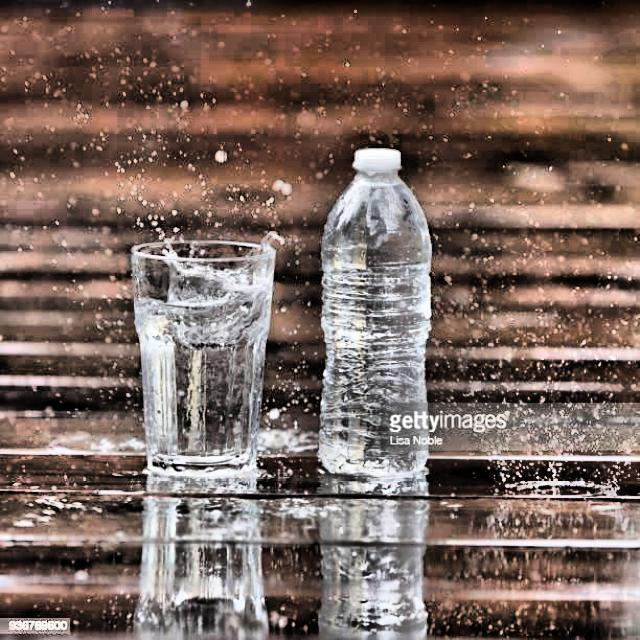Bottles: (313, 138, 440, 482)
